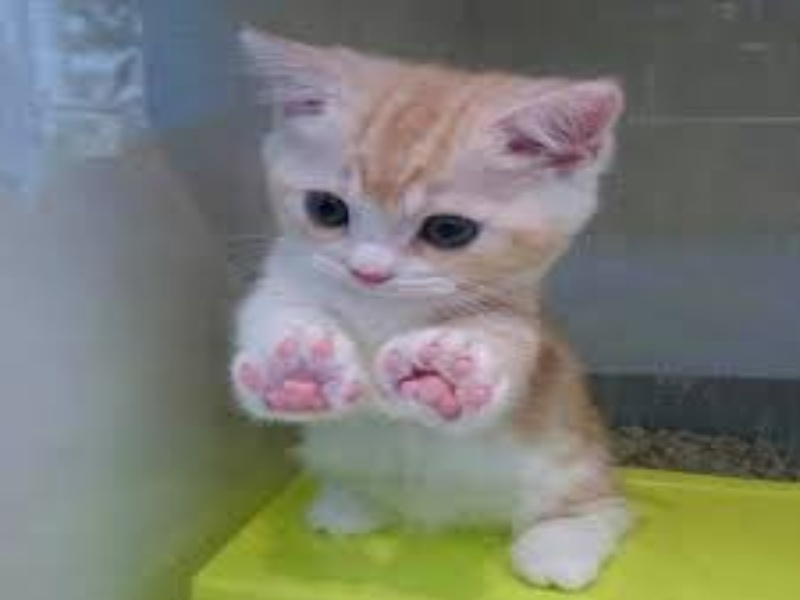cat: (222, 20, 653, 593)
